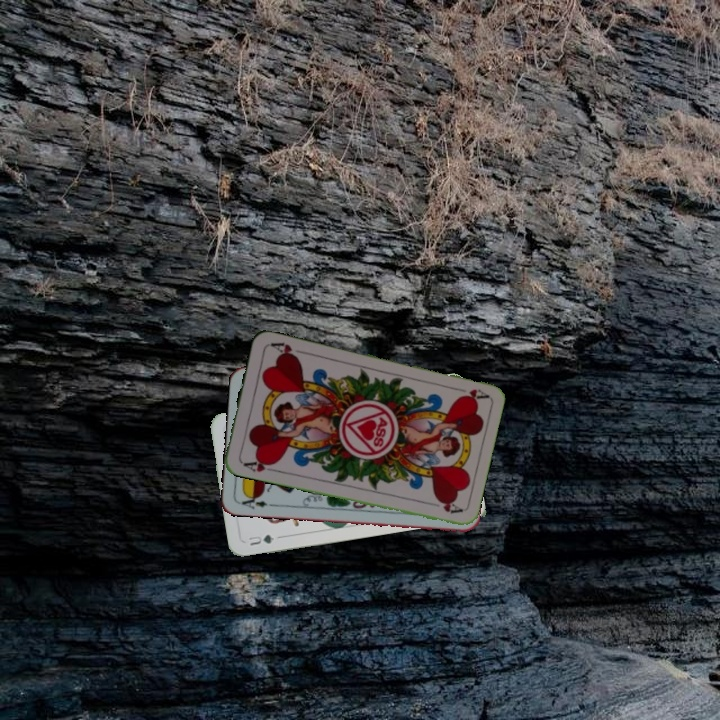EA: (235, 491, 276, 512)
GU: (245, 530, 277, 548)
HA: (239, 455, 279, 475), (449, 383, 490, 402)
